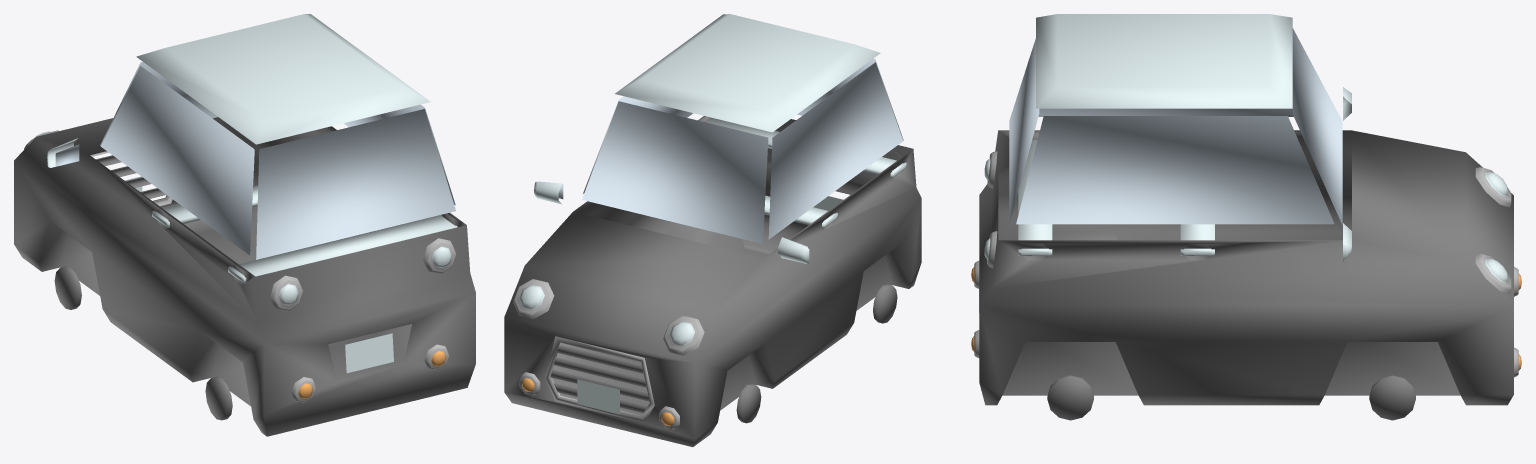
Rendered from Car_02.fbx.
The picture shows the model from 3 angles, left to right: view 1: azimuth 30°, elevation 25°; view 2: azimuth 150°, elevation 25°; view 3: azimuth 270°, elevation 25°; orthographic projection. The views are drawn at different scales.
Parts seen in each view (by area): view 1: CarC_T.002; view 2: CarC_T.002; view 3: CarC_T.002.
Boxes of the visible parts, x1,y1,x2,y2 form: CarC_T.002: [14, 14, 475, 436]; CarC_T.002: [504, 14, 921, 446]; CarC_T.002: [971, 14, 1521, 420].
Bounding box in the file's own units: 94.09 × 94.83 × 144.
Materials: 1 (1 with a texture image).
